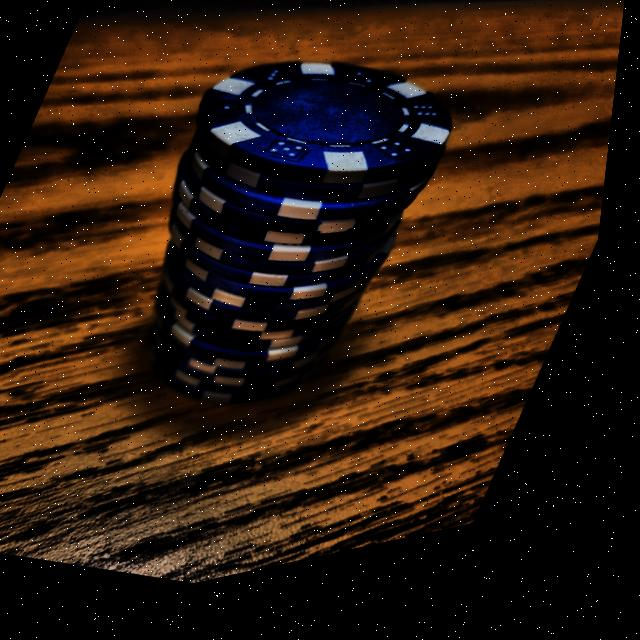Chip: (35, 0, 552, 525)
